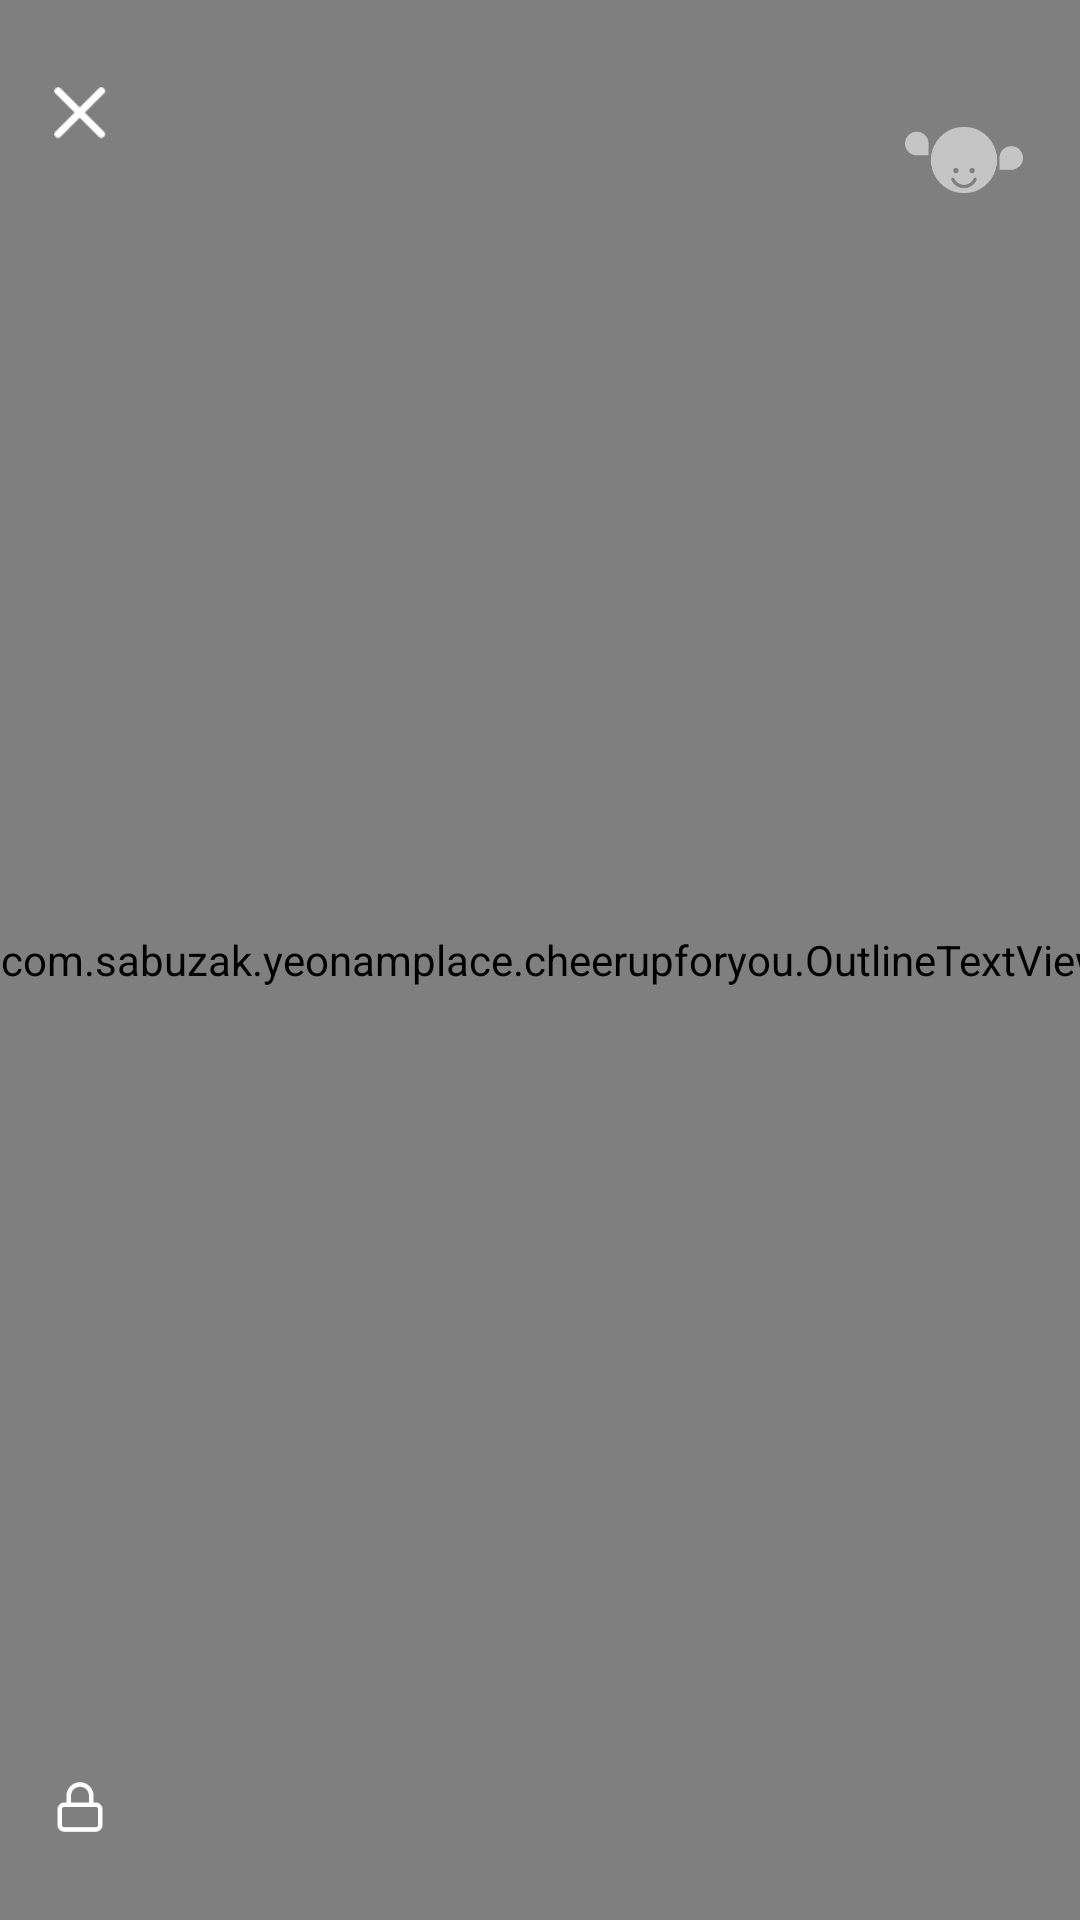

Named icons in this screenshot (1080px x 1920px) and their bounding boxes, bbox(x1, y1, x2, y2):
character: bbox(905, 127, 1023, 193)
delete: bbox(54, 87, 106, 139)
lock: bbox(57, 1782, 103, 1832)
